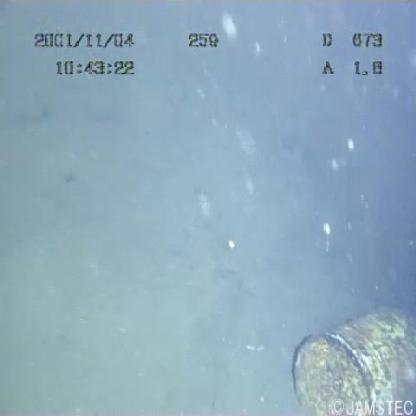Rác: (278, 298, 416, 416)
